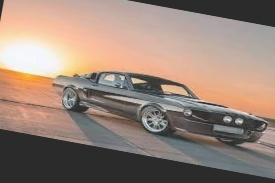car: (33, 52, 275, 156)
